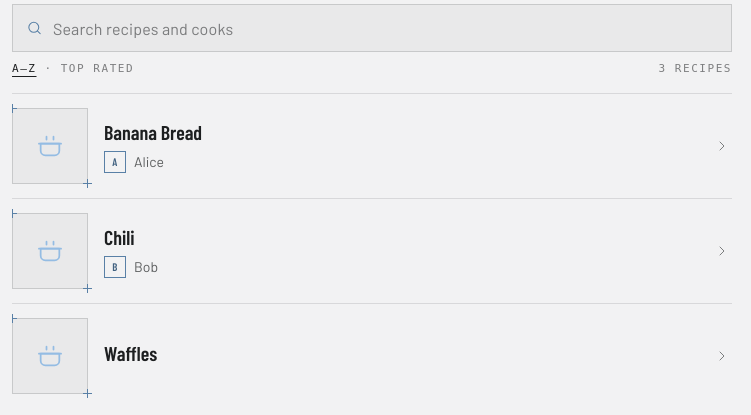
RecipeTable › filters on contributor
Type "alice" into the search field named "Filter recipes" at [372, 28], box [12,4,732,52]
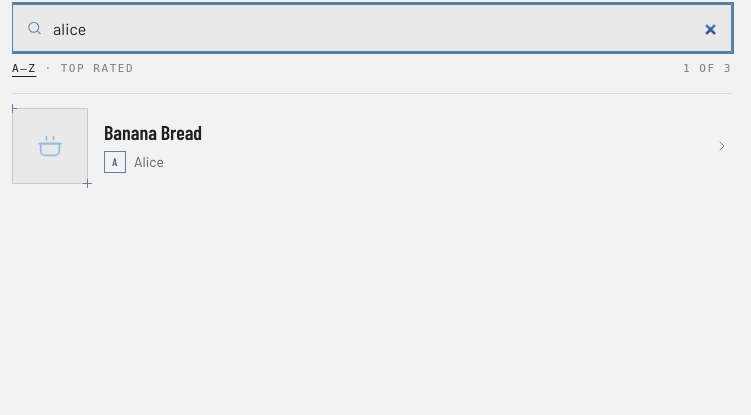
Expected: the text "Banana Bread" is shown, [104,120,202,144]
Expected: the button "Waffles" is gone
